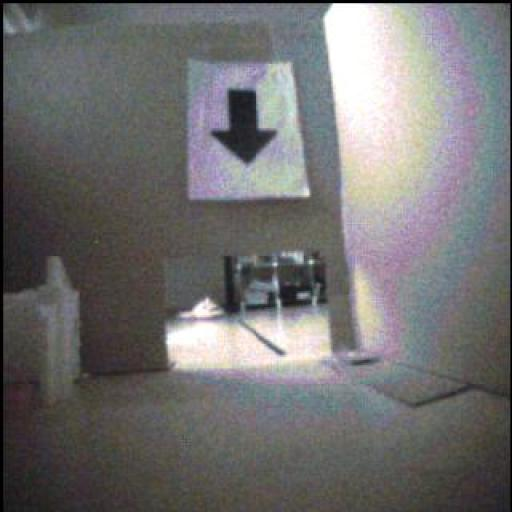arrow: (212, 91, 278, 164)
